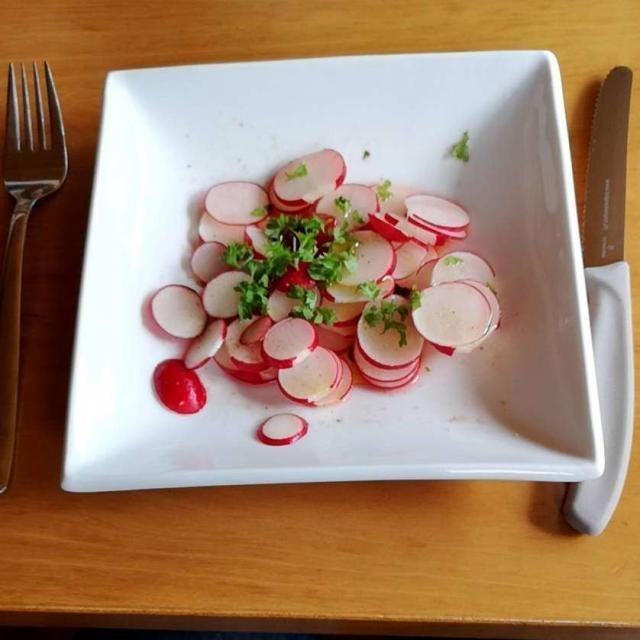radish: (158, 128, 508, 442)
